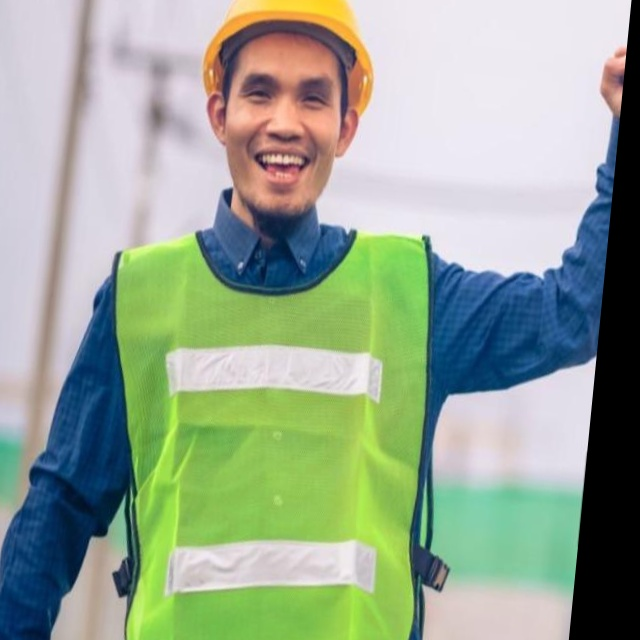Con_Casco: (179, 0, 389, 233)
Con_Chaleco: (87, 202, 447, 640)
